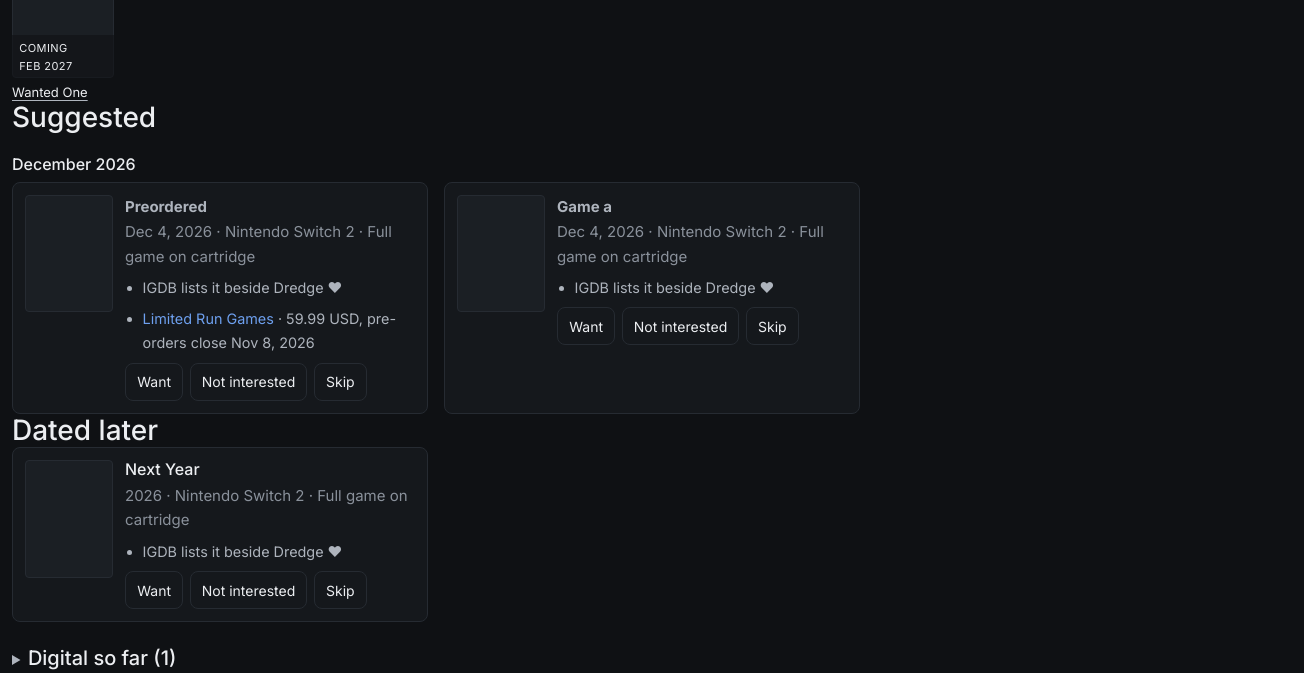
it: AdminRadar › removes a card when the owner answers
(page scrolled)
Check: the heading "Next Year" is shown, box [125,460,200,480]
What coordinates should you click on to do the following:
click the button with aria-label "Skip Next Year"
I would click on:
 (340, 590)
Its box is [314,571,367,609].
(page scrolled)
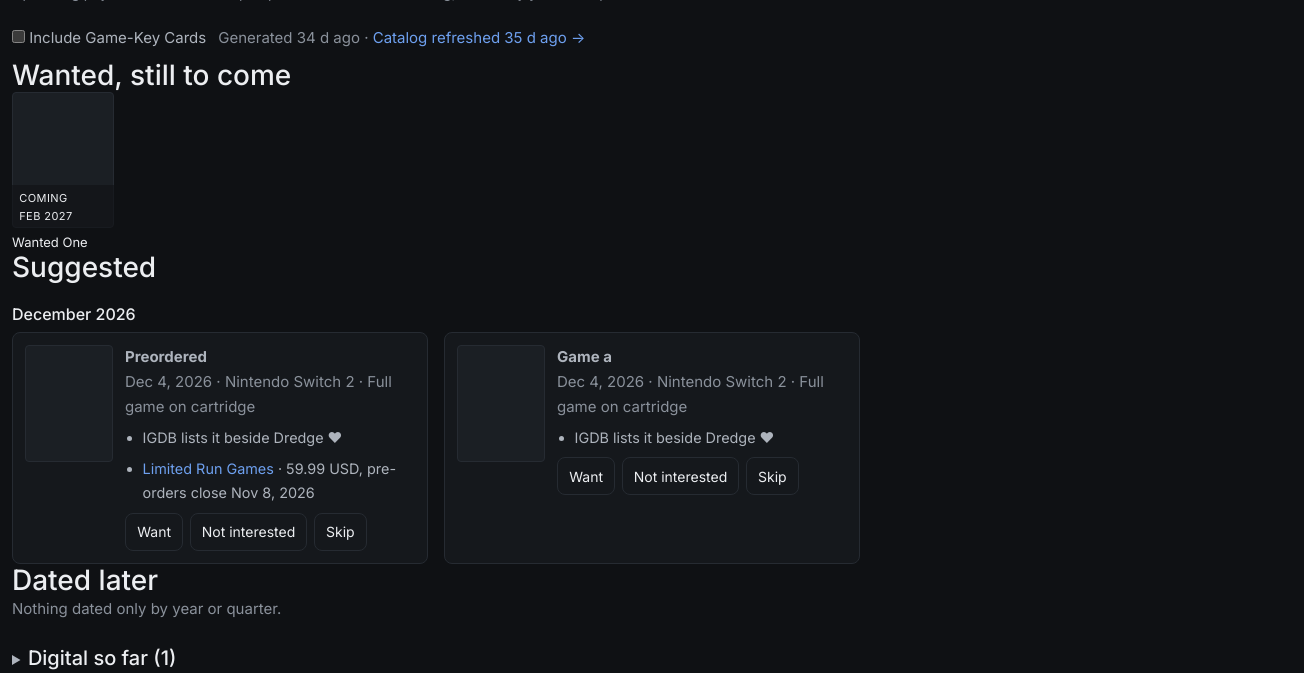
Check: the heading "Next Year" is gone
